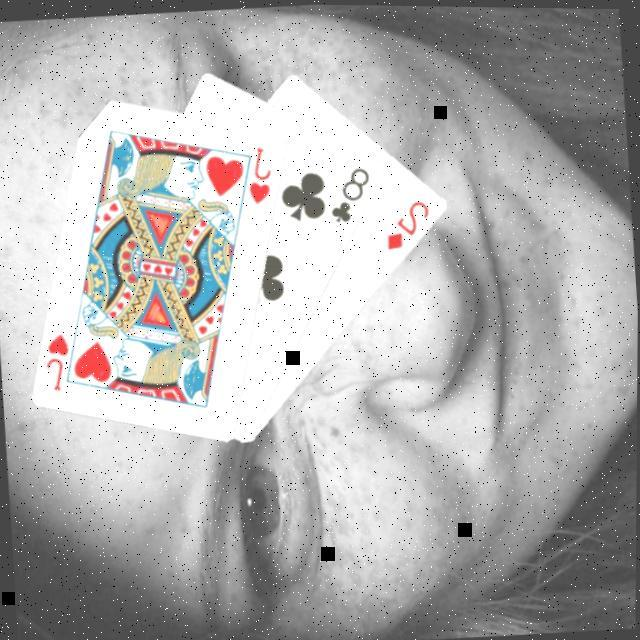2D: (378, 192, 434, 250)
8C: (324, 160, 374, 224)
JH: (241, 141, 275, 205), (39, 328, 73, 392)
